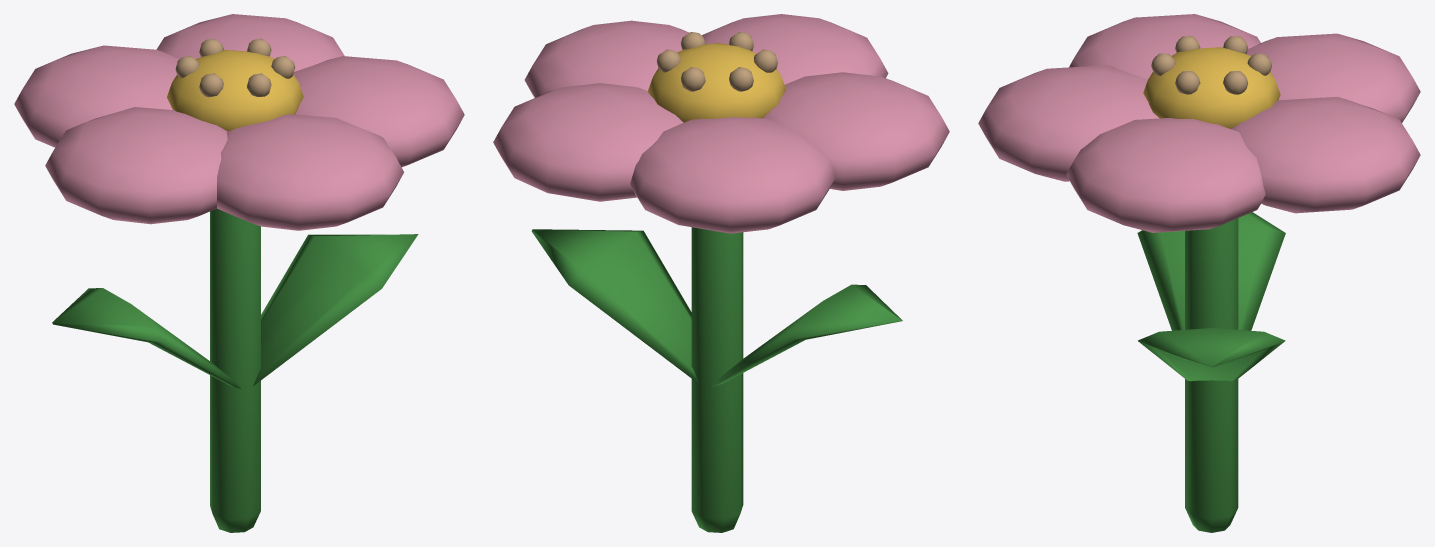
Rendered from org_wildflower.glb.
3 views of the same model, side by side, from view 1: azimuth 30°, elevation 25°; view 2: azimuth 150°, elevation 25°; view 3: azimuth 270°, elevation 25° (orthographic).
Parts seen in each view (by area): view 1: Foliage; view 2: Foliage; view 3: Foliage.
Part boxes in pixels (bbox=[...]): Foliage: bbox=[14, 14, 464, 532]; Foliage: bbox=[493, 14, 949, 532]; Foliage: bbox=[978, 14, 1420, 532].
Bounding box in the file's own units: 0.3447 × 0.4 × 0.3357.
